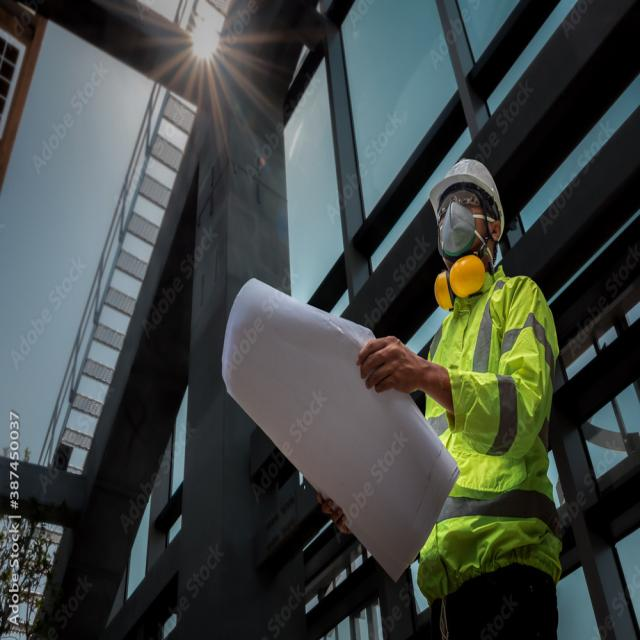goggles: (428, 188, 494, 220)
helmet: (426, 153, 512, 233)
vest: (402, 263, 565, 599)
